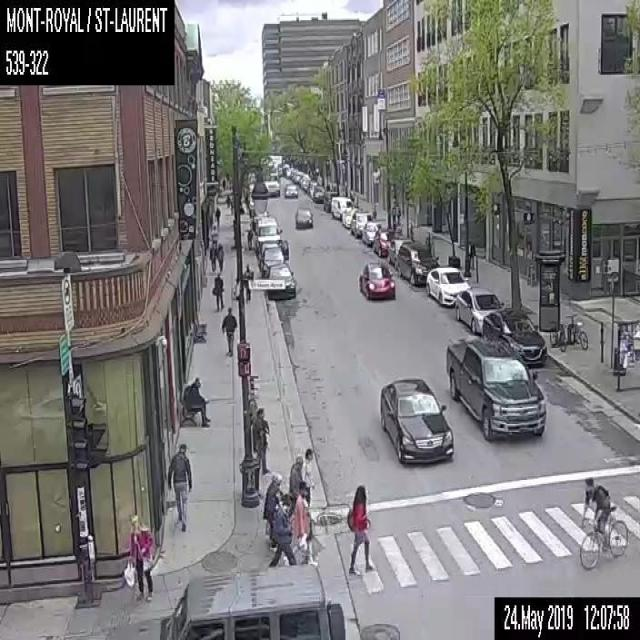cyclist: (578, 477, 628, 568)
pedestrian: (122, 512, 154, 599), (346, 484, 374, 575), (165, 442, 192, 530), (268, 493, 296, 566), (262, 472, 281, 546), (293, 480, 309, 564), (182, 376, 209, 425), (251, 407, 268, 473), (221, 305, 236, 356), (288, 455, 303, 495), (212, 271, 224, 308), (243, 263, 253, 300), (216, 242, 224, 270), (208, 243, 216, 270), (210, 224, 218, 245), (246, 226, 252, 248), (214, 206, 220, 224), (391, 201, 396, 222), (396, 203, 400, 222), (225, 194, 230, 208), (222, 177, 225, 191)
vehicle: (106, 561, 344, 639), (446, 335, 544, 439), (377, 374, 454, 462), (482, 307, 547, 364), (456, 286, 504, 334), (426, 265, 470, 307), (397, 240, 438, 285), (356, 260, 396, 297), (264, 262, 296, 300), (258, 238, 289, 276), (387, 234, 413, 268), (372, 228, 403, 256), (256, 216, 282, 246), (350, 210, 372, 238), (330, 195, 354, 220), (263, 160, 280, 195), (361, 222, 381, 246), (341, 204, 358, 227), (294, 207, 312, 228), (322, 190, 338, 212), (268, 154, 282, 175), (284, 184, 297, 198), (250, 216, 260, 233), (312, 186, 324, 200), (306, 180, 317, 194), (299, 172, 310, 185), (293, 170, 304, 182), (302, 176, 312, 189), (249, 192, 254, 216)
